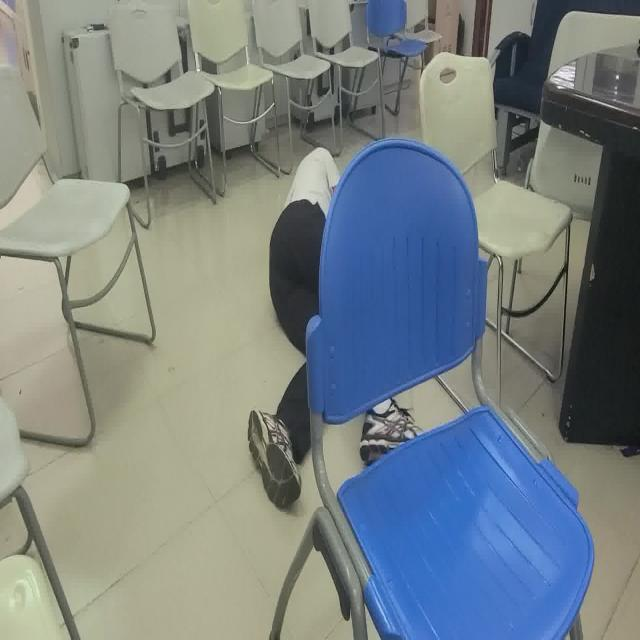Fall-Detected: (244, 137, 433, 511)
